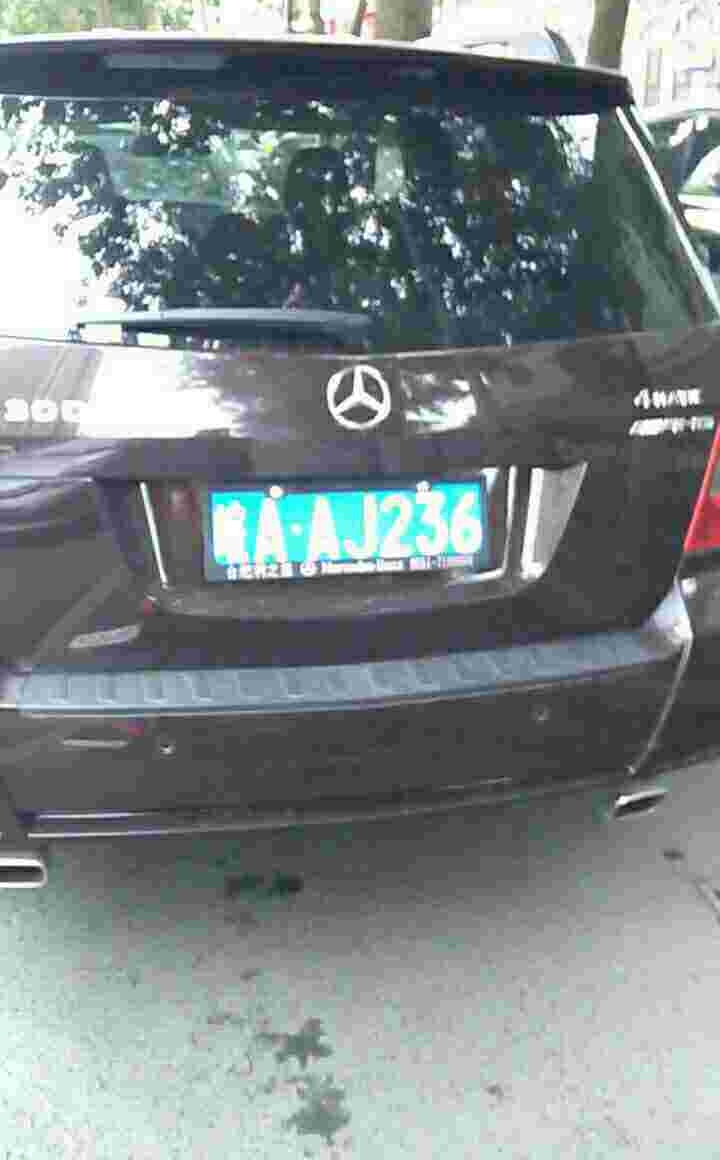license_plate: (209, 485, 491, 567)
